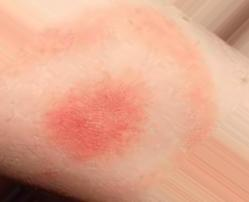Tick: (44, 81, 160, 165)
